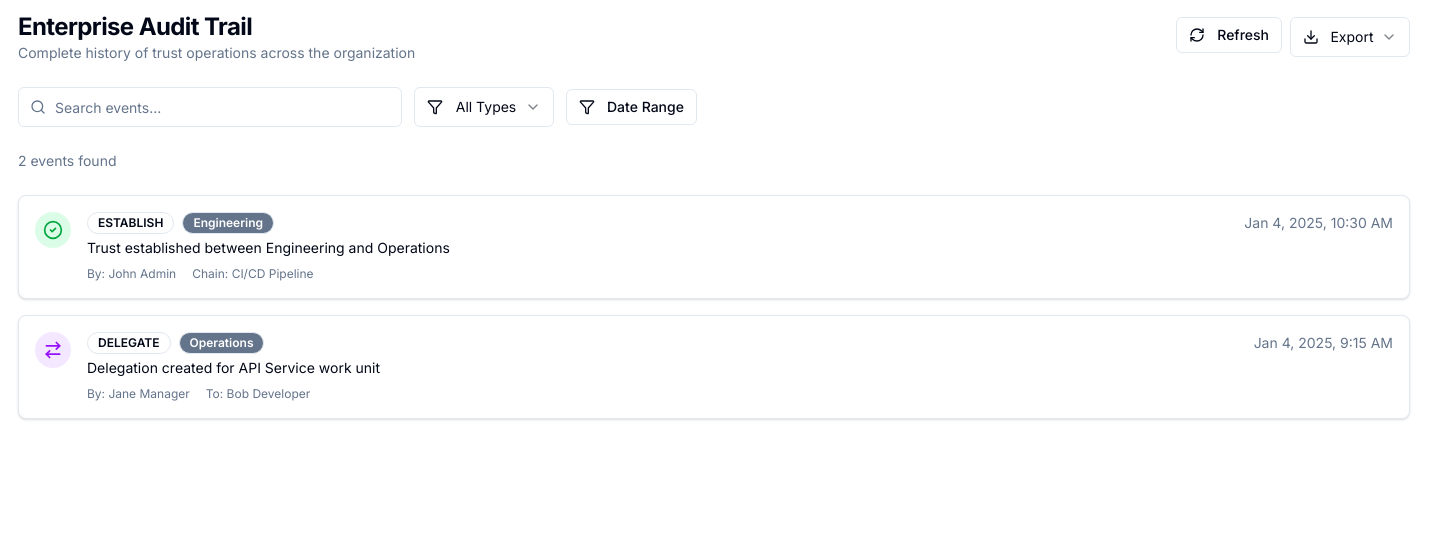
Test: EnterpriseAuditTrail › event expansion › should expand event when clicked
Click the element with test id "audit-event-row-event-1": (714, 247) x1=18 y1=195 x2=1410 y2=299
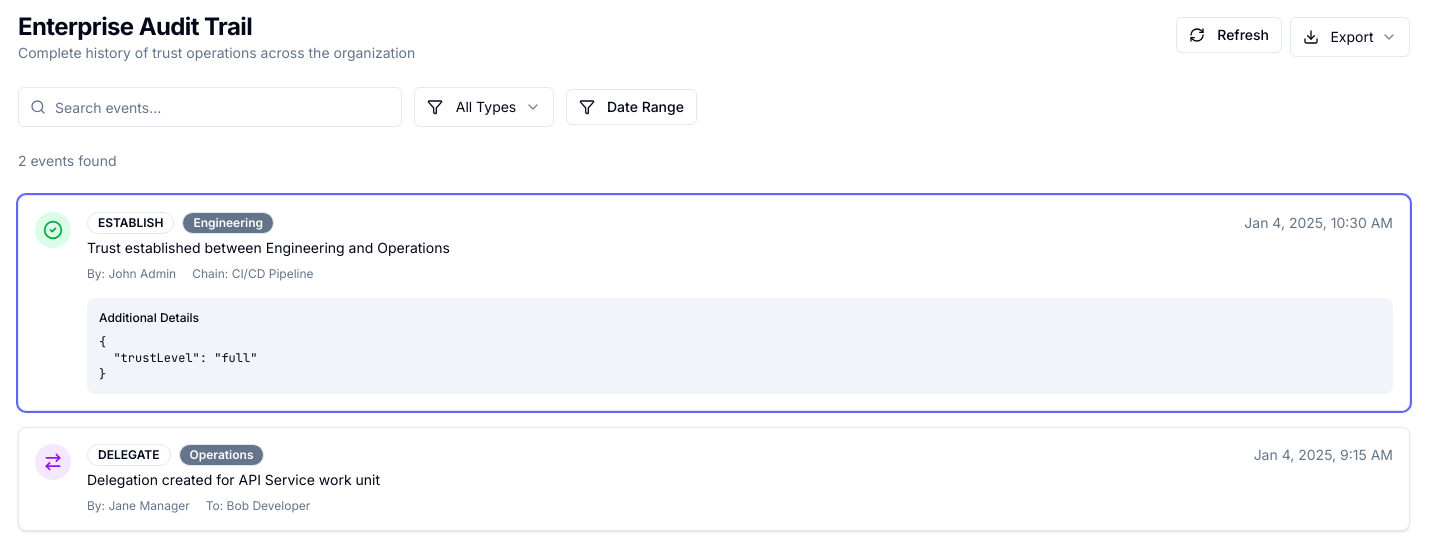
Now the text "Additional Details" is shown, box x1=99 y1=310 x2=199 y2=325
